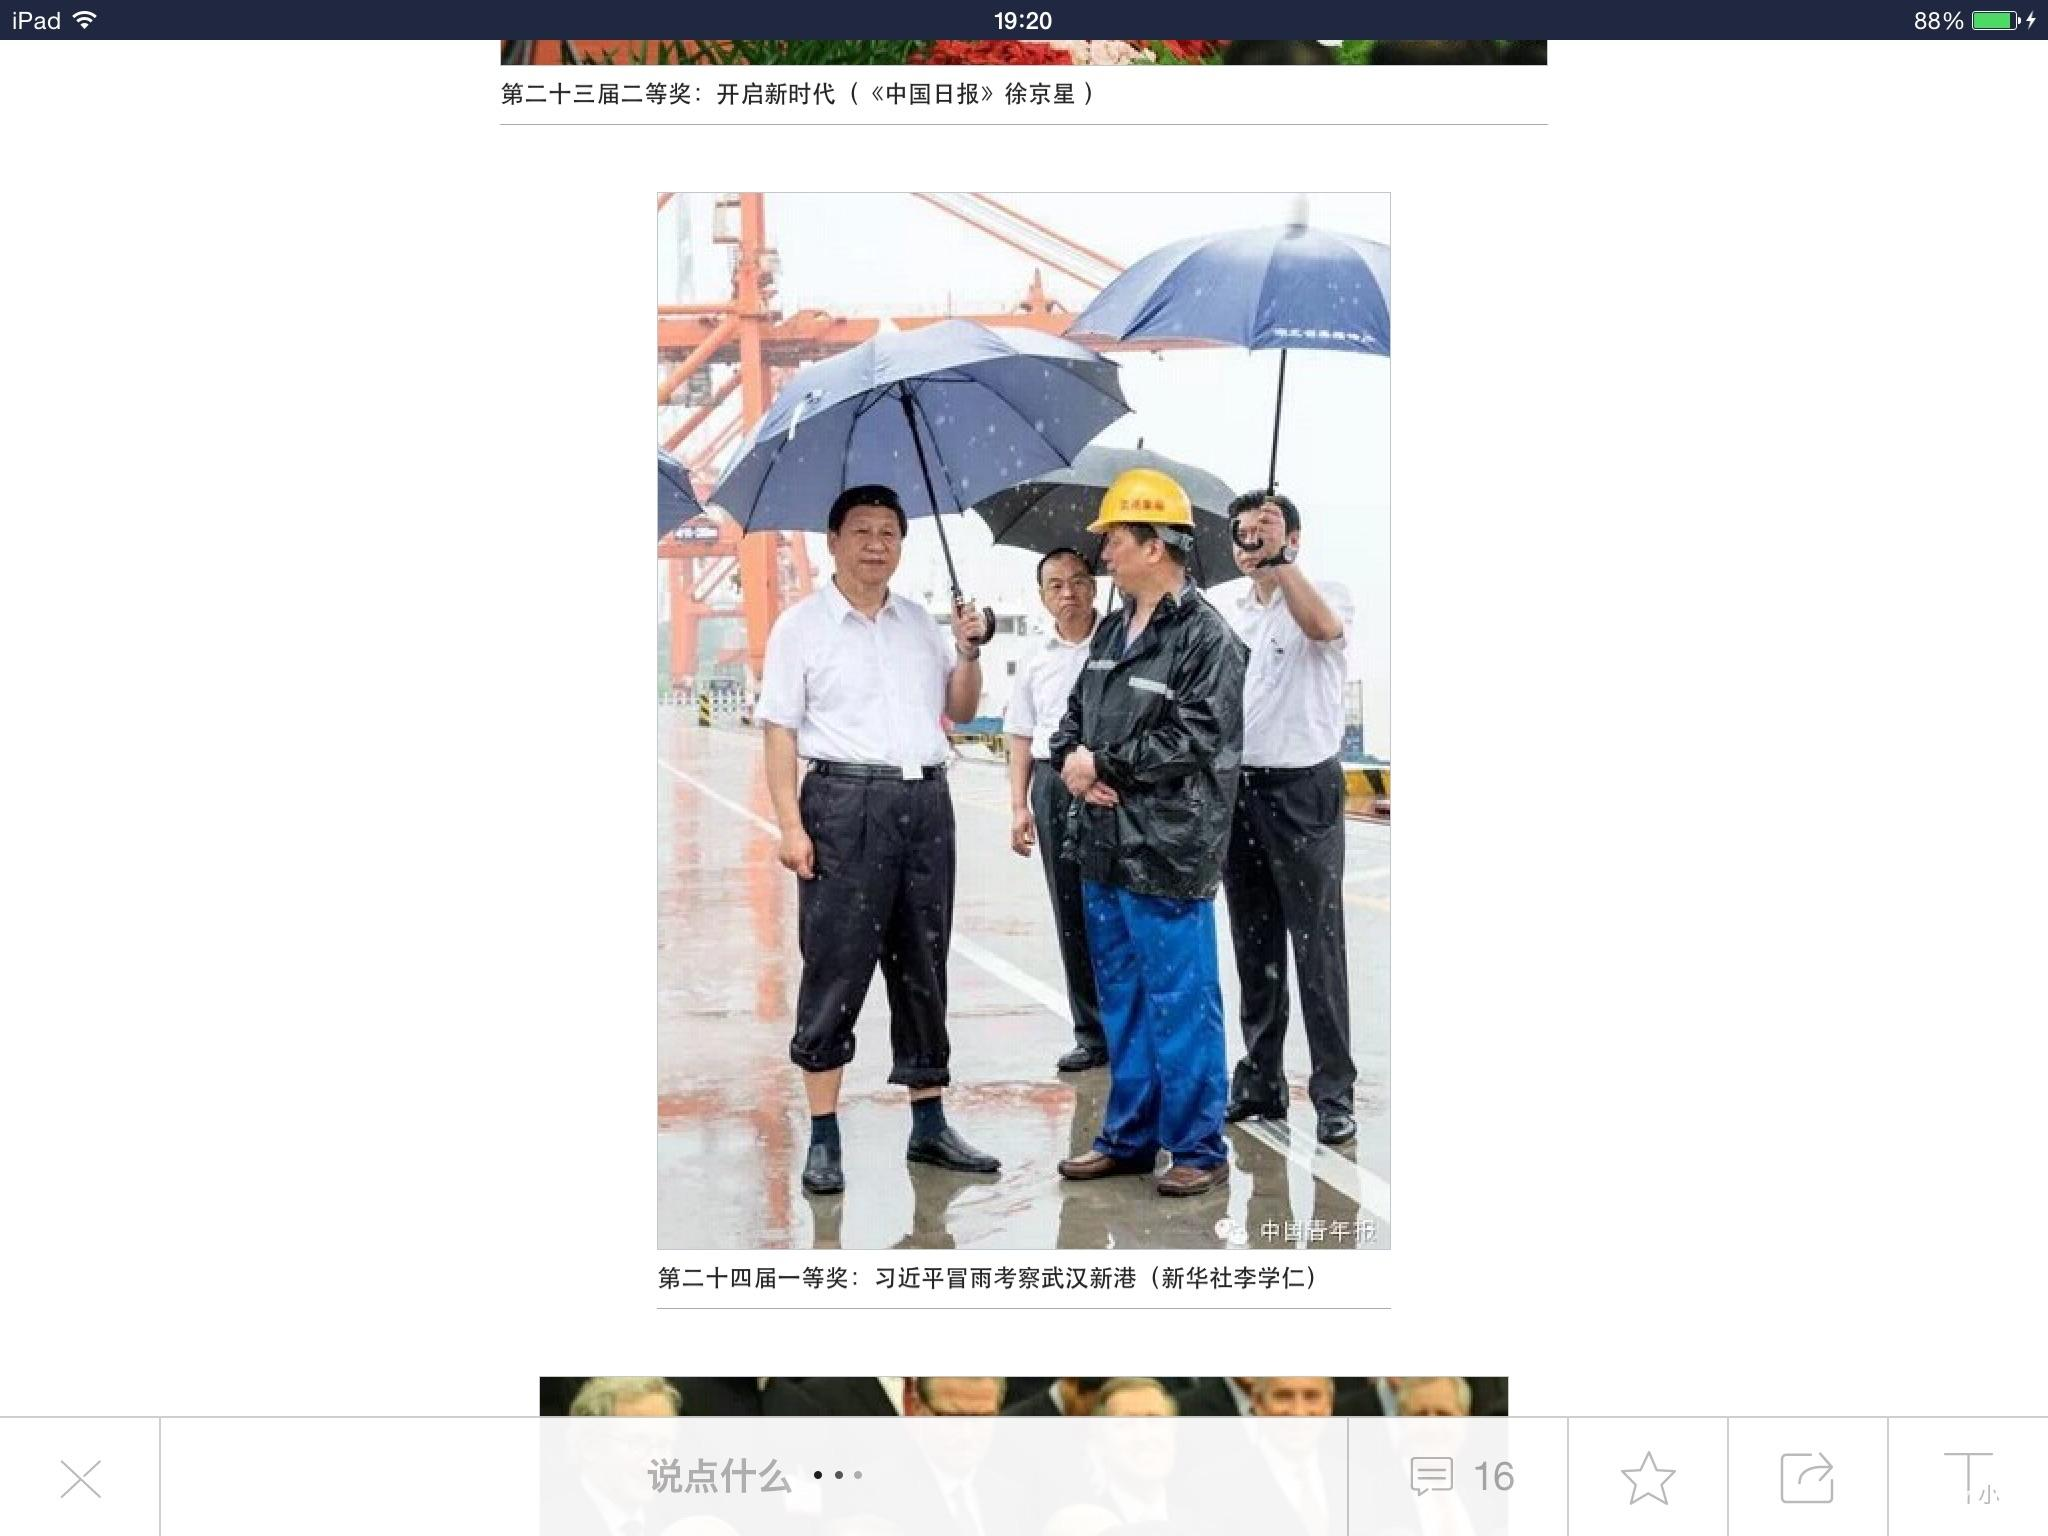helmet: (1097, 470, 1200, 541)
